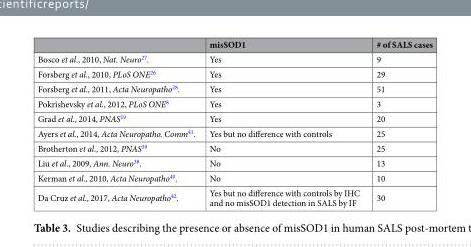table: (36, 37, 432, 208)
table column: (201, 37, 367, 208), (36, 37, 201, 208), (367, 37, 432, 208)
table column header: (36, 37, 432, 51)
table row: (36, 185, 432, 208), (36, 51, 432, 66), (36, 66, 432, 81), (36, 95, 432, 110), (36, 110, 432, 125), (36, 125, 432, 140), (36, 140, 432, 155), (36, 155, 432, 170), (36, 170, 432, 185), (36, 37, 432, 51), (36, 81, 432, 95)
